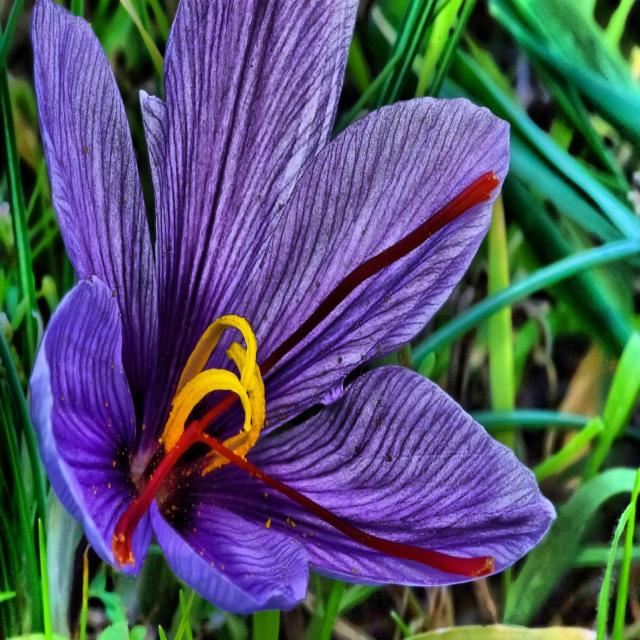Flower: (24, 0, 561, 616)
stigma: (197, 167, 502, 431), (197, 431, 498, 580), (114, 420, 202, 571)
